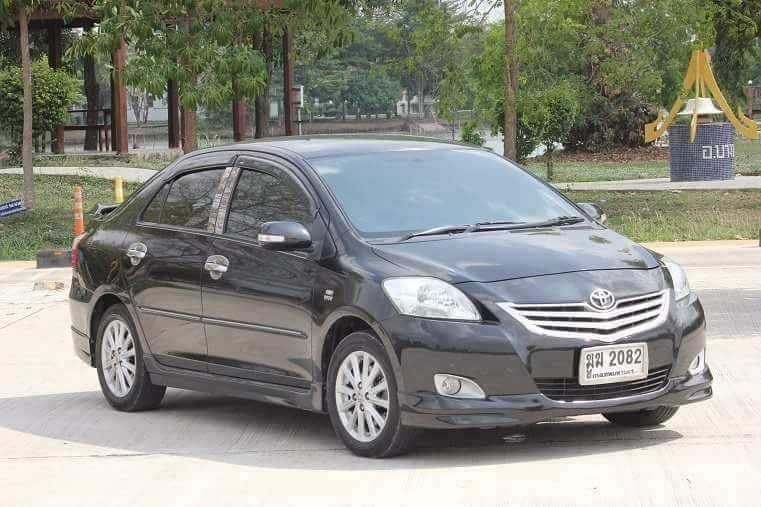sedan: (66, 130, 717, 460)
